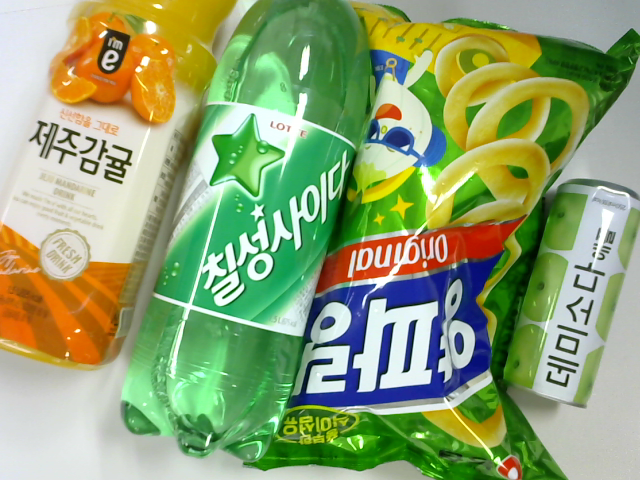Chilseong_Cider_1.5L: (139, 1, 370, 455)
Demisoda_Apple_Can_250ml: (500, 163, 640, 401)
Jeju_Tangerine_1.5L: (2, 1, 232, 365)
Oninon_Ring: (274, 17, 617, 452)
